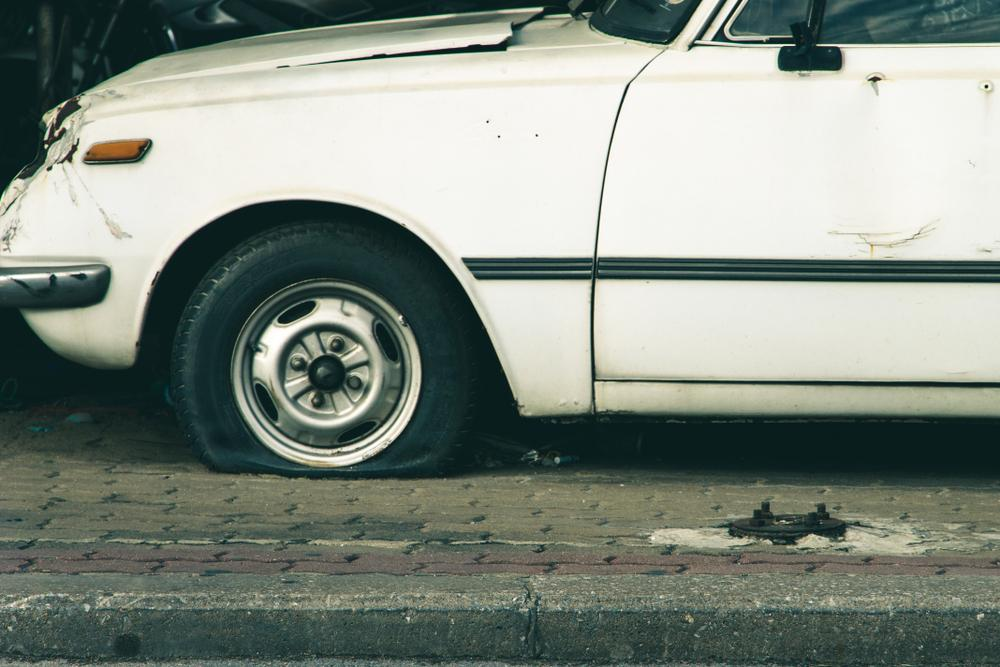crack: (270, 3, 553, 71)
tire flat: (169, 219, 477, 479)
